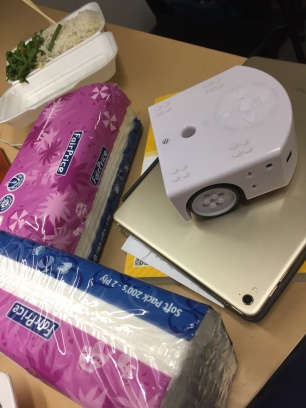thymio: (137, 62, 306, 230)
